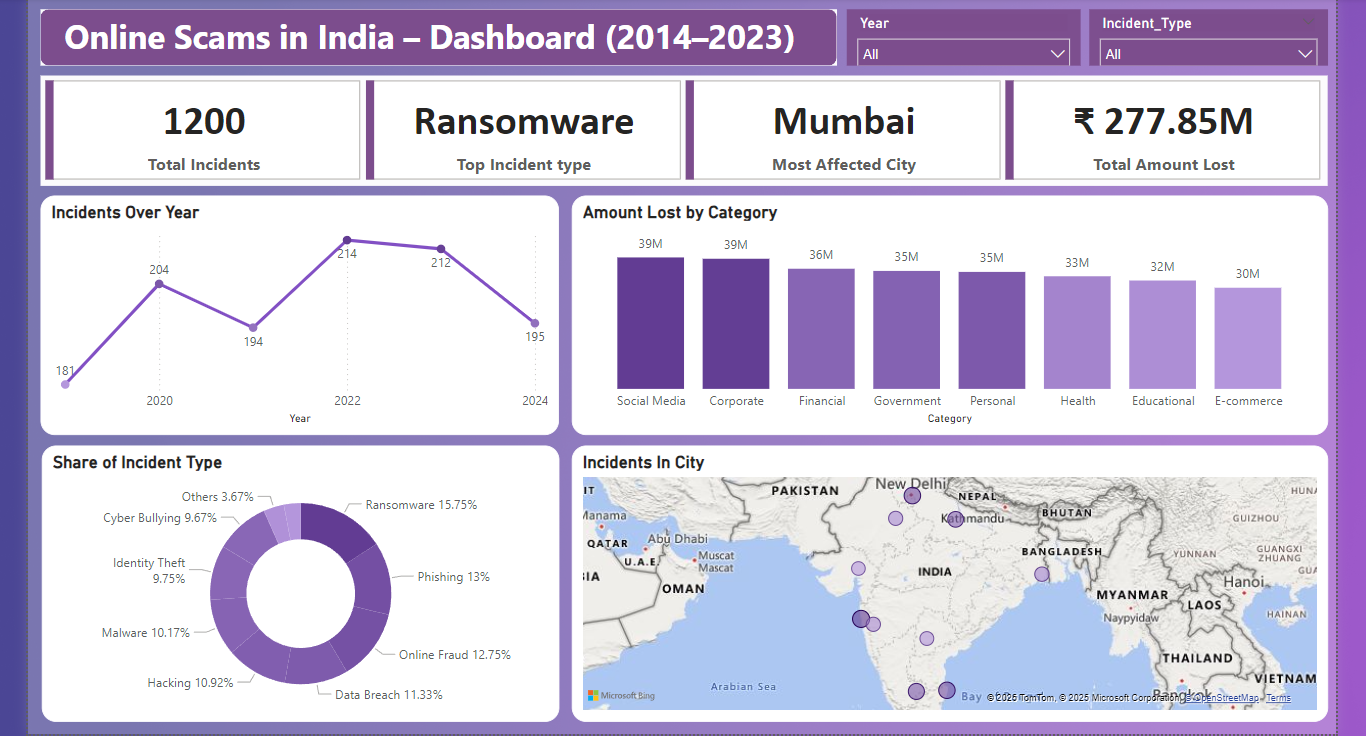

What the dashboard file says about the page in this screenshot:
{"tool":"powerbi","page":{"name":"Online Scam Report","canvas":[1280,720],"ordinal":0},"visuals":[{"type":"shape","box":[12.2,11,778.9,55],"z":0},{"type":"textbox","box":[30.6,11,738.6,64.8],"z":1000},{"type":"slicer","fields":{"Values":["cybersecurity_cases_india_combined.Year"]},"box":[801,11,228.7,55],"z":3000},{"type":"cardVisual","fields":{"Data":["cybersecurity_cases_india_combined.Max_Incident_Year","cybersecurity_cases_india_combined.Top Incident type","cybersecurity_cases_india_combined.Most Affected City","cybersecurity_cases_india_combined.Total Amount Lost"]},"box":[12.2,75.8,1259.5,107.6],"z":4000},{"type":"slicer","fields":{"Values":["cybersecurity_cases_india_combined.Incident_Type"]},"box":[1038.2,11,233.6,55],"z":5000},{"type":"lineChart","title":"Incidents Over Year","fields":{"Category":["cybersecurity_cases_india_combined.Year"],"Y":["CountNonNull(cybersecurity_cases_india_combined.Incident_Type)"]},"box":[12.2,193.2,507.5,234.8],"z":5001},{"type":"columnChart","title":"Amount Lost by Category","fields":{"Category":["cybersecurity_cases_india_combined.Category"],"Y":["Sum(cybersecurity_cases_india_combined.Amount_Lost_INR)"]},"box":[531.9,193.2,739.8,234.8],"z":5002},{"type":"donutChart","title":"Share of Incident Type","fields":{"Category":["cybersecurity_cases_india_combined.Incident_Type"],"Y":["CountNonNull(cybersecurity_cases_india_combined.Incident_Type)"]},"box":[13.5,437.8,506.3,270.2],"z":5003},{"type":"map","title":"Incidents In City","fields":{"Category":["cybersecurity_cases_india_combined.City"],"Size":["CountNonNull(cybersecurity_cases_india_combined.Incident_Type)"]},"box":[532,438,740,270],"z":5004}]}

Visuals, with their boxes in screenshot pixels (x1, y1, x2, y2):
shape: <region>44, 11, 830, 67</region>
textbox: <region>63, 11, 808, 76</region>
slicer - cybersecurity_cases_india_combined.Year: <region>840, 11, 1071, 67</region>
cardVisual - cybersecurity_cases_india_combined.Max_Incident_Year x cybersecurity_cases_india_combined.Top Incident type: <region>44, 76, 1315, 185</region>
slicer - cybersecurity_cases_india_combined.Incident_Type: <region>1079, 11, 1315, 67</region>
"Incidents Over Year" lineChart: <region>44, 195, 556, 432</region>
"Amount Lost by Category" columnChart: <region>568, 195, 1315, 432</region>
"Share of Incident Type" donutChart: <region>46, 442, 556, 714</region>
"Incidents In City" map: <region>569, 442, 1315, 714</region>
